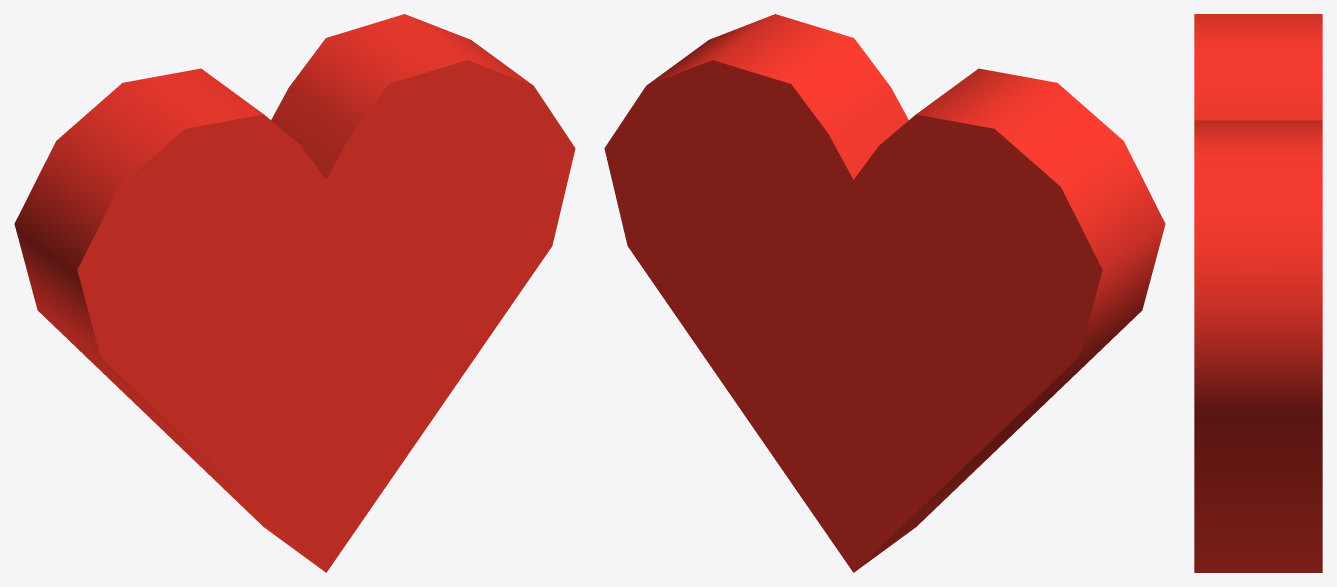
The model's file is Heart_Pickup.fbx.
3 renders of one model, left to right at view 1: azimuth 30°, elevation 25°; view 2: azimuth 150°, elevation 25°; view 3: azimuth 270°, elevation 25°, orthographic. The views are drawn at different scales.
Parts seen in each view (by area): view 1: Pickup_Heart; view 2: Pickup_Heart; view 3: Pickup_Heart.
Boxes of the visible parts, x1=… form: Pickup_Heart: x1=14, y1=14, x2=575, y2=572; Pickup_Heart: x1=604, y1=14, x2=1165, y2=572; Pickup_Heart: x1=1194, y1=14, x2=1322, y2=572.
Bounding box in the file's own units: 0.1039 × 0.0954 × 0.0227.
